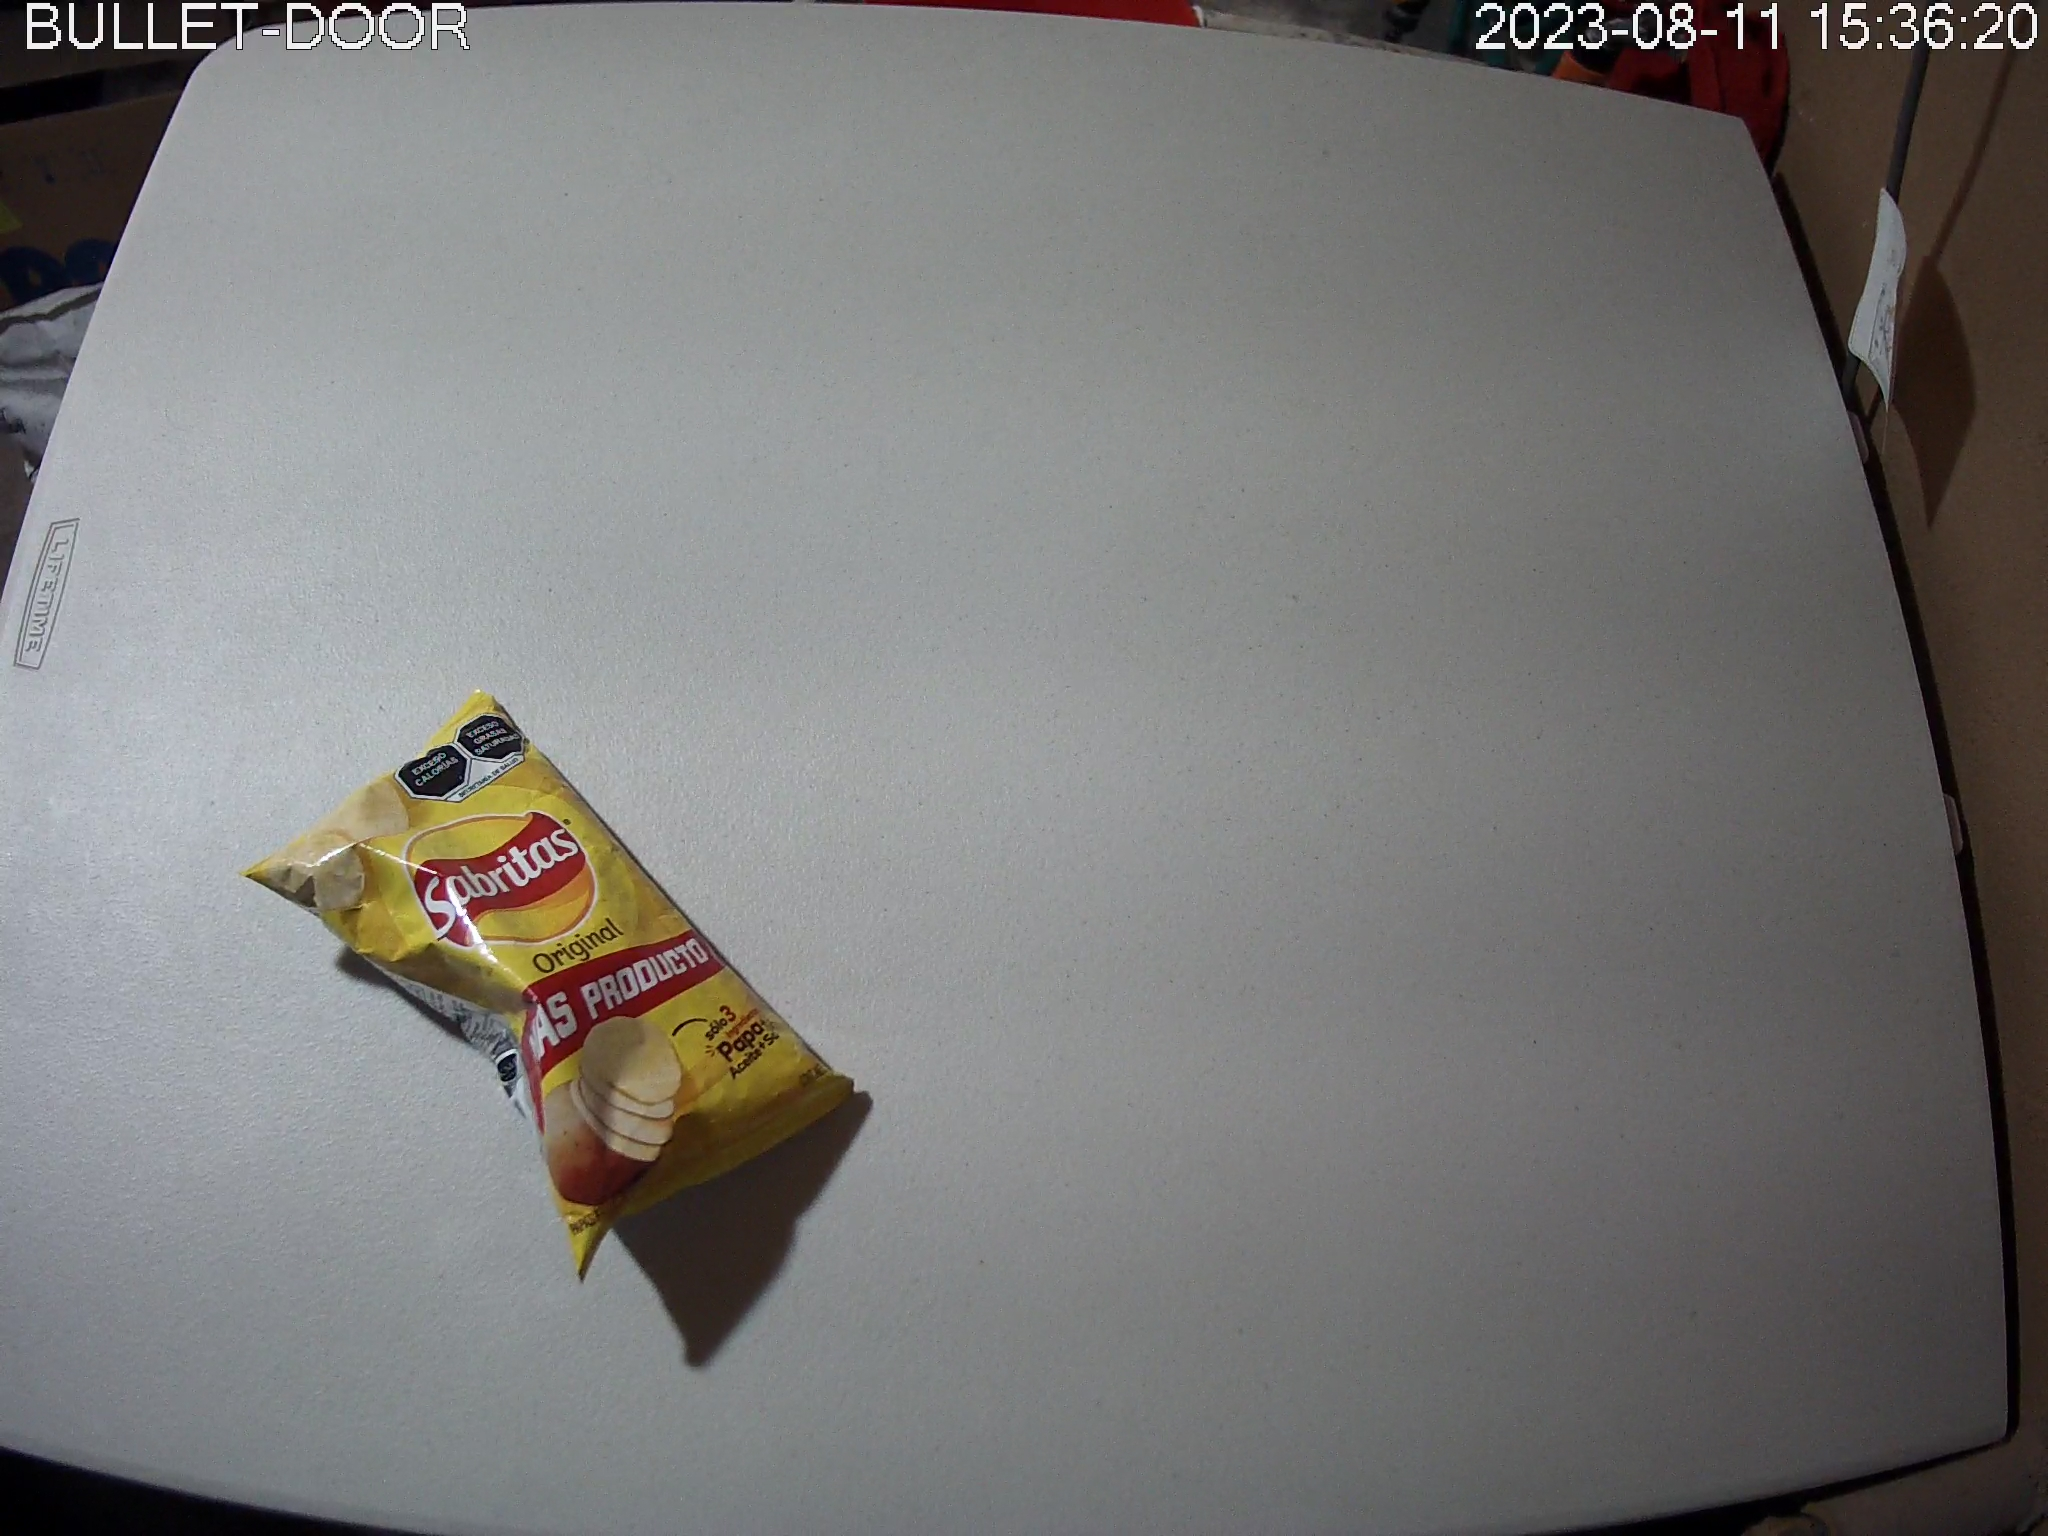Sabritas_45_F: (240, 679, 855, 1291)
